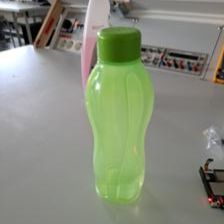bottle: (87, 25, 155, 203)
